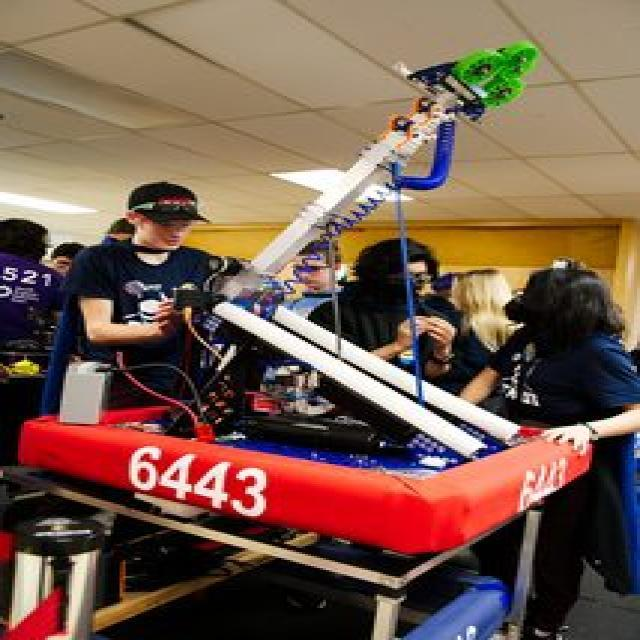robot: (8, 34, 616, 550)
